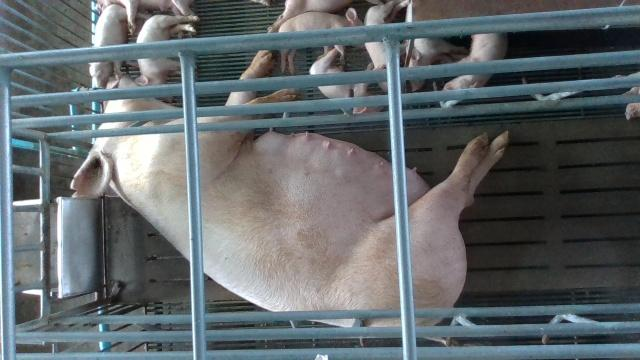piglet: (278, 8, 364, 74), (135, 14, 199, 102), (310, 48, 384, 113), (364, 0, 409, 94), (90, 4, 138, 87), (443, 32, 509, 90), (401, 38, 468, 92)
sow-sleep-lactate: (71, 50, 508, 328)
